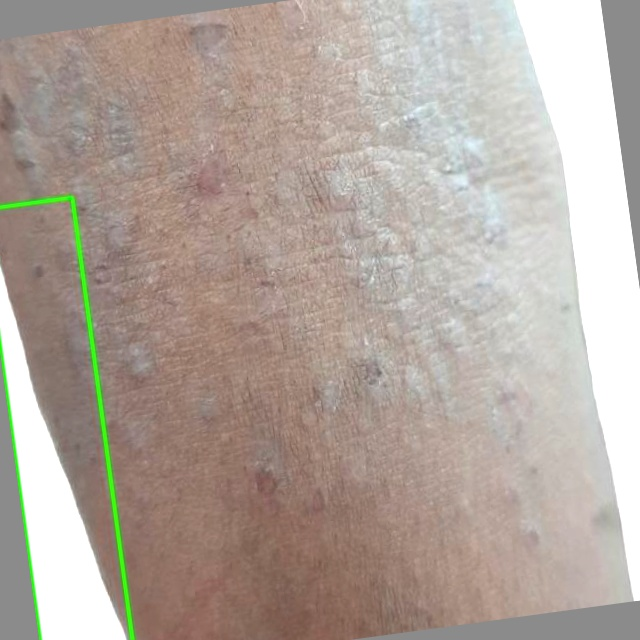Atopic Dermatitis: (0, 197, 132, 639)
